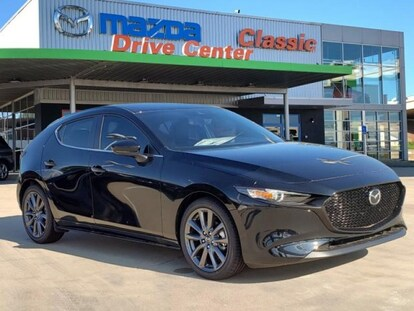Mazda3 Hatchback: (17, 103, 407, 281)
